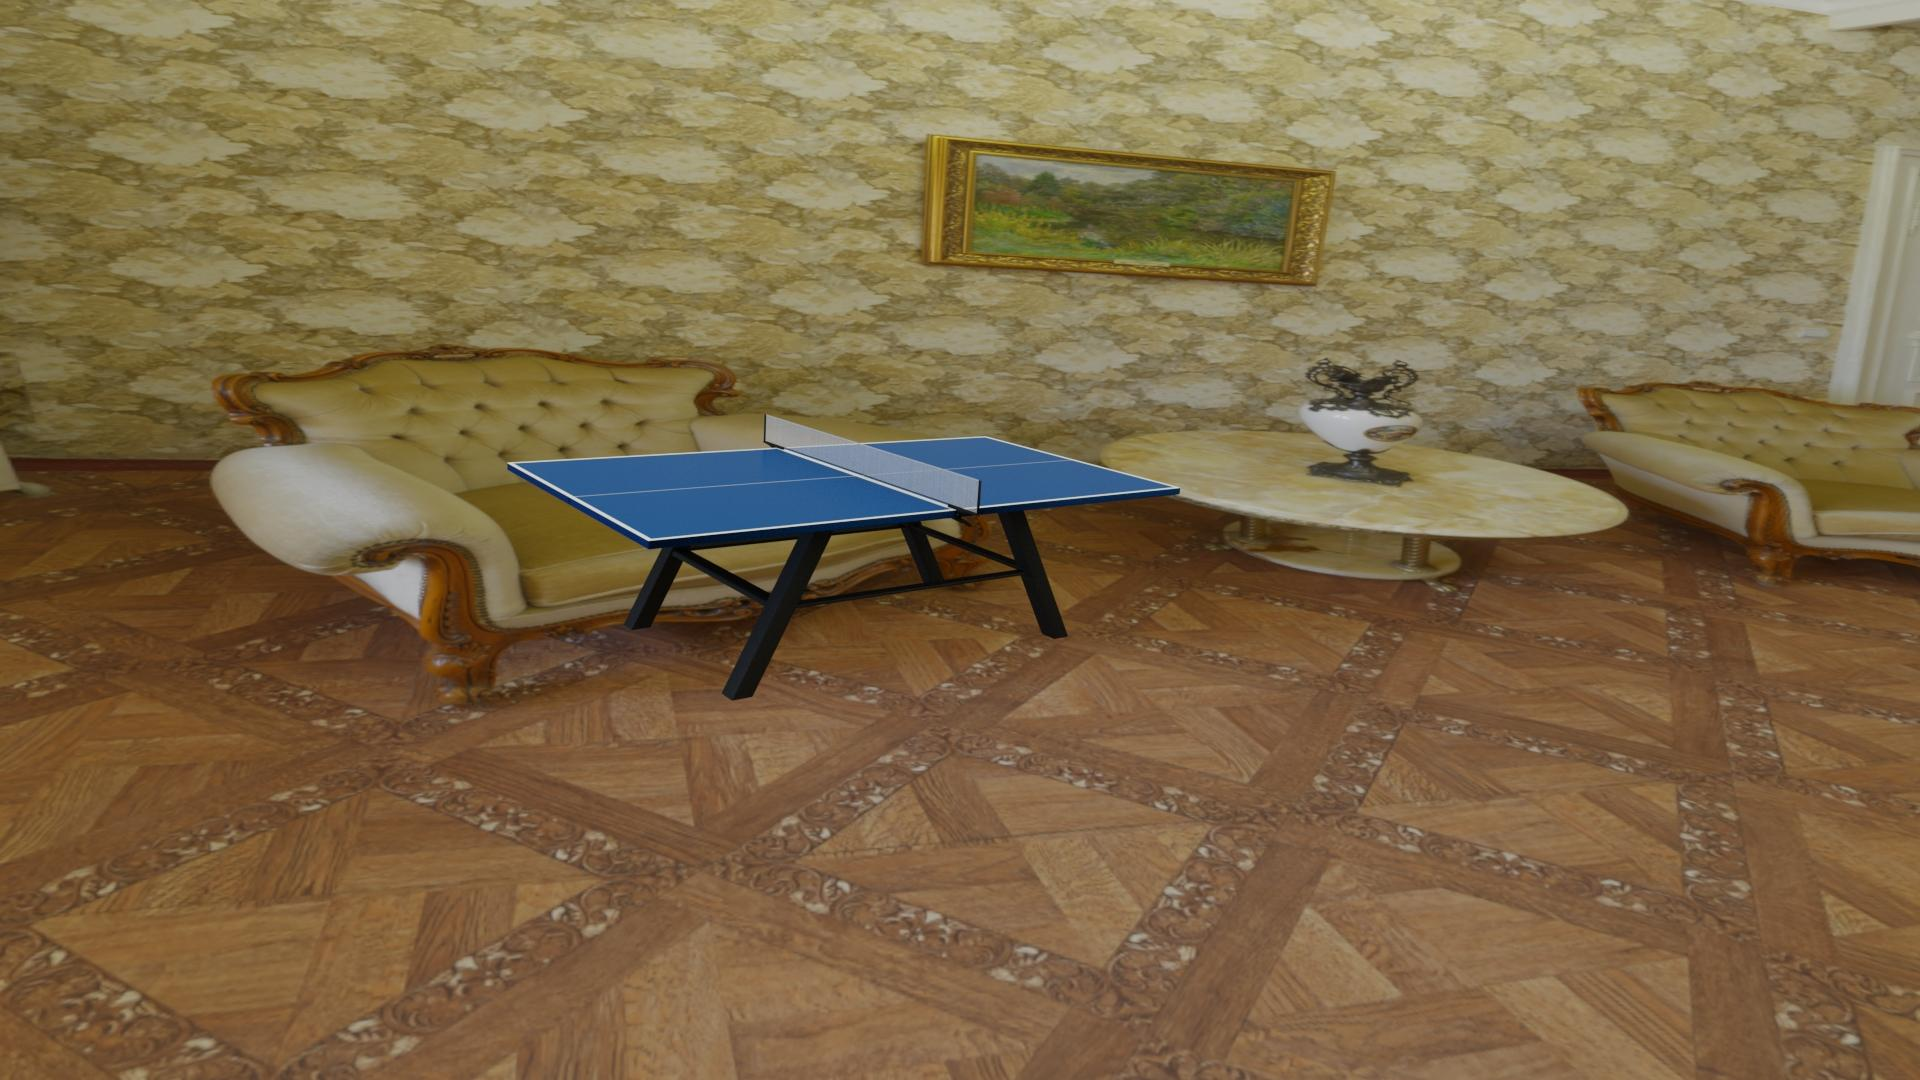table: (513, 436, 1175, 539)
